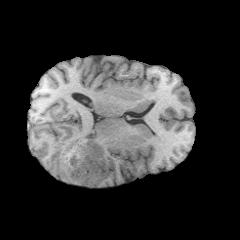glioma: (54, 136, 108, 187)
